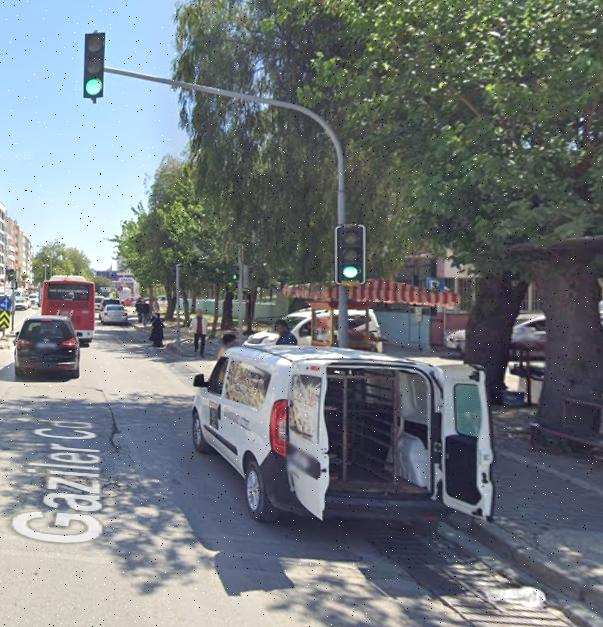greenlight: (338, 226, 361, 281), (85, 33, 103, 97)
